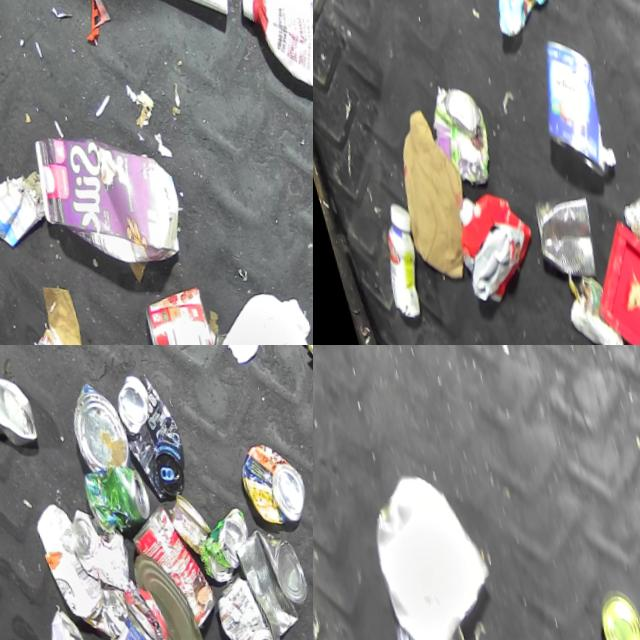can: (515, 31, 612, 190), (114, 501, 212, 640), (102, 370, 188, 507), (219, 525, 310, 640), (412, 75, 495, 196), (516, 189, 597, 293), (225, 440, 305, 536), (56, 502, 129, 602), (119, 549, 199, 640), (55, 380, 127, 477), (74, 463, 149, 539), (181, 509, 250, 590), (128, 286, 213, 345), (199, 575, 275, 640), (156, 493, 208, 562), (76, 606, 181, 640), (582, 589, 640, 640), (0, 366, 34, 451), (381, 609, 465, 640), (33, 605, 92, 640)
milk_jug: (180, 285, 313, 345)
non_white_jug: (17, 115, 185, 290), (229, 0, 313, 133)
